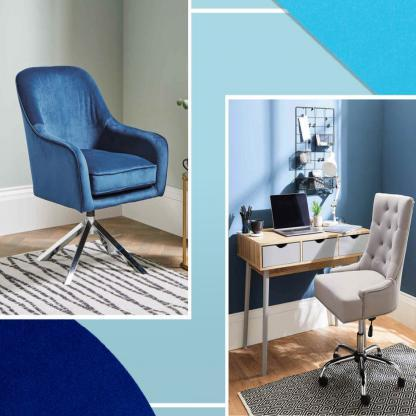chair: (15, 64, 170, 289), (312, 191, 416, 402)
light: (322, 149, 343, 228)
table: (234, 227, 378, 376)
